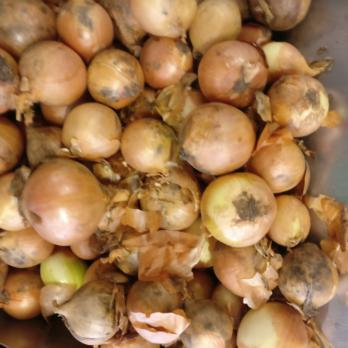Onion: (0, 2, 312, 348)
